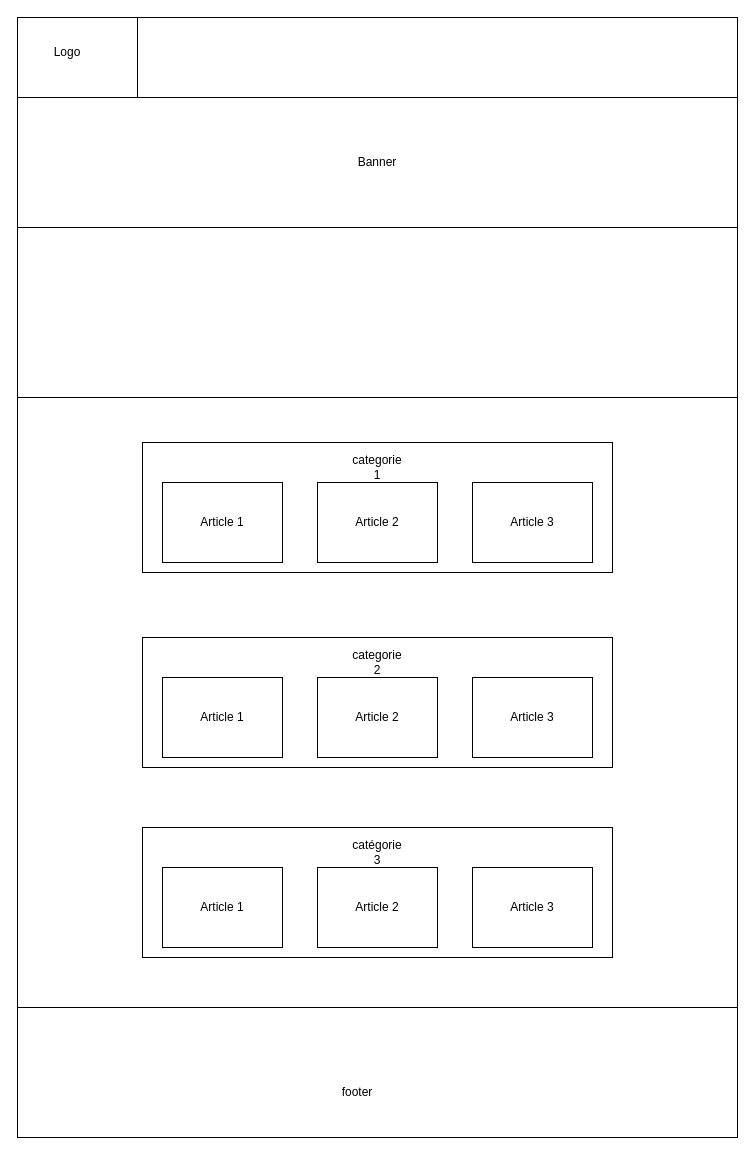
This 755x1155 diagram has some shape labels left out. Here are the shapes that lost their labels. From the top down, the centre of each, then its label:
At (437,57): "menu".
At (377,312): "Product Overview".
